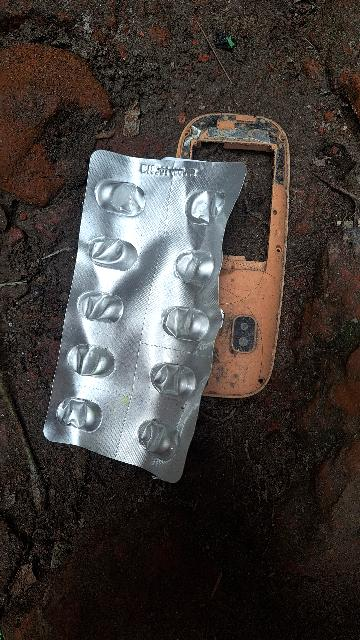medicine: (41, 141, 247, 482)
